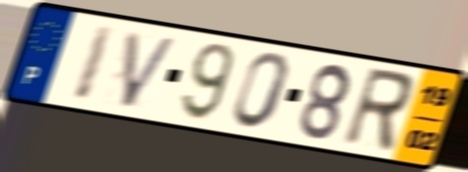0: (231, 50, 294, 131)
8: (299, 62, 352, 140)
9: (177, 41, 237, 123)
I: (69, 22, 119, 104)
R: (338, 65, 418, 156)
V: (117, 28, 182, 111)
